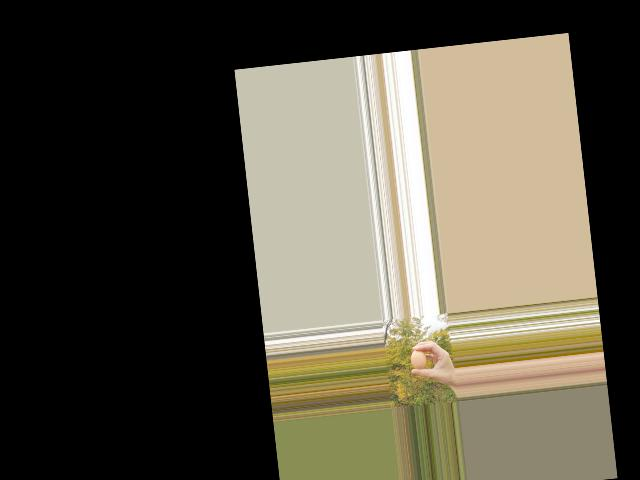egg: (409, 348, 426, 370)
